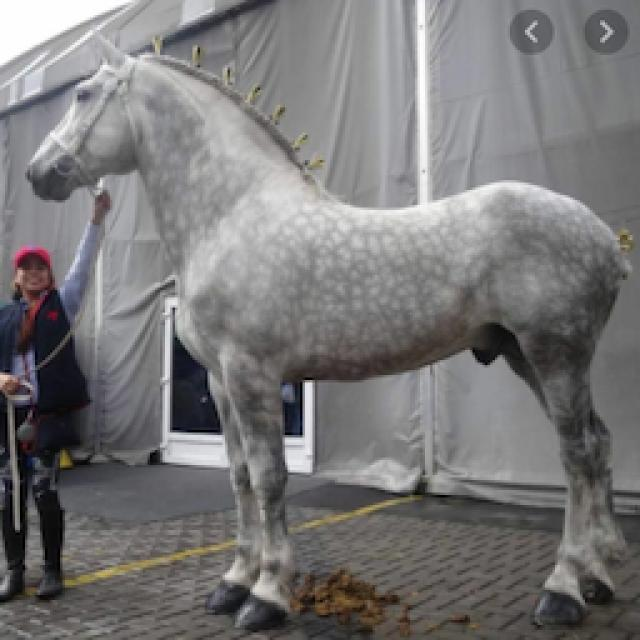Horse: (20, 27, 638, 635)
